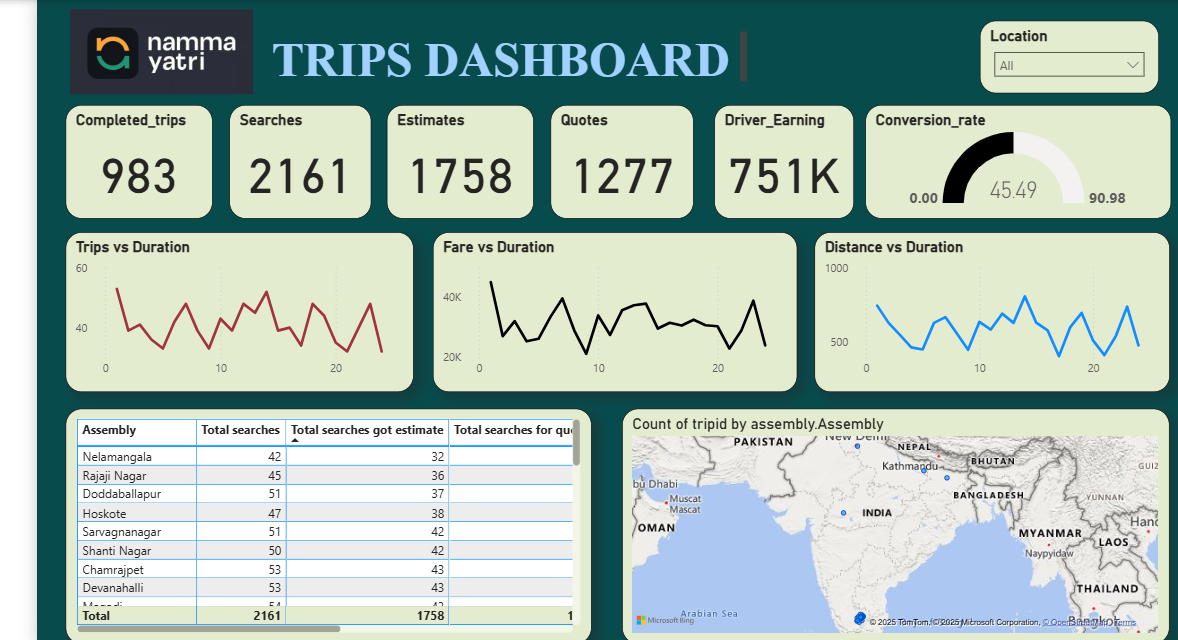

Layout of this report page (visuals, bound fields, positions):
{"tool":"powerbi","page":{"name":"Page 1","canvas":[1280,720],"ordinal":0},"visuals":[{"type":"card","title":"Completed_trips","fields":{"Values":["Sum(trip_details.end_ride)"]},"box":[31.4,117.1,164.3,127.1],"z":0},{"type":"card","title":"Quotes","fields":{"Values":["Sum(trip_details.searches_got_quotes)"]},"box":[574.3,117.1,160,127.1],"z":1000},{"type":"card","title":"Estimates","fields":{"Values":["Sum(trip_details.searches_got_estimate)"]},"box":[390,117.1,164.3,127.1],"z":2000},{"type":"card","title":"Searches","fields":{"Values":["Sum(trip_details.searches)"]},"box":[214.3,117.1,158.6,127.1],"z":3000},{"type":"card","title":"Driver_Earning","fields":{"Values":["Sum(trips.fare)"]},"box":[755.7,117.1,155.7,127.1],"z":4000},{"type":"gauge","fields":{"Y":["trip_details.Conversion_rate"]},"box":[924.3,117.1,341.4,127.1],"z":5000},{"type":"lineChart","title":"Trips vs  Duration","fields":{"Category":["trips.duration"],"Y":["CountNonNull(trips.tripid)"]},"box":[31.4,260,388.6,178.6],"z":6000},{"type":"lineChart","title":"Distance vs  Duration","fields":{"Category":["trips.duration"],"Y":["Sum(trips.distance)"]},"box":[868.6,260,397.1,178.6],"z":7000},{"type":"lineChart","title":"Fare vs  Duration","fields":{"Category":["trips.duration"],"Y":["Sum(trips.fare)"]},"box":[442.9,260,407.1,178.6],"z":8000},{"type":"tableEx","fields":{"Values":["Merge2.assembly.Assembly","Sum(Merge2.searches)","Sum(Merge2.searches_got_estimate)","Sum(Merge2.searches_for_quotes)","Sum(Merge2.searches_got_quotes)","Sum(Merge2.trips.fare)","Sum(Merge2.trips.distance)","trip_details.Conversion_rate"]},"box":[31.4,457.1,587.1,262.9],"z":9000},{"type":"map","fields":{"Category":["Merge2.assembly.Assembly"]},"box":[654.3,457.1,611.4,262.9],"z":10000},{"type":"image","box":[31.4,5.7,214.3,120],"z":11000},{"type":"textbox","box":[245.7,30,552.9,68.6],"z":12000},{"type":"slicer","title":"Location","fields":{"Values":["Merge2.assembly.Assembly"]},"box":[1052.9,22.9,200,81.4],"z":13000}]}

Visuals, with their boxes in screenshot pixels (x1, y1, x2, y2):
"Completed_trips" card: select_region(35, 100, 184, 216)
"Quotes" card: select_region(529, 100, 675, 216)
"Estimates" card: select_region(361, 100, 511, 216)
"Searches" card: select_region(201, 100, 346, 216)
"Driver_Earning" card: select_region(694, 100, 836, 216)
gauge - trip_details.Conversion_rate: select_region(848, 100, 1158, 216)
"Trips vs  Duration" lineChart: select_region(35, 231, 389, 393)
"Distance vs  Duration" lineChart: select_region(797, 231, 1158, 393)
"Fare vs  Duration" lineChart: select_region(409, 231, 780, 393)
tableEx - Merge2.assembly.Assembly x Sum(Merge2.searches): select_region(35, 410, 569, 639)
map - Merge2.assembly.Assembly: select_region(602, 410, 1158, 639)
image: select_region(35, 0, 230, 108)
textbox: select_region(230, 21, 733, 84)
"Location" slicer: select_region(965, 15, 1147, 89)
